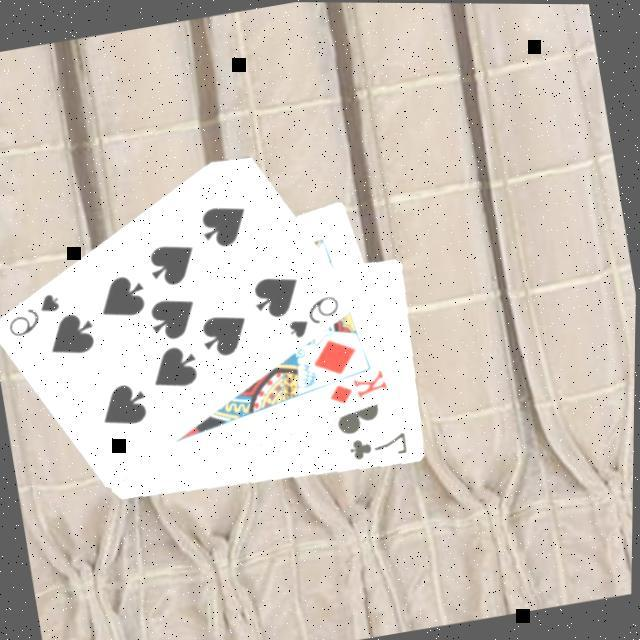7C: (346, 428, 413, 468)
9S: (0, 290, 69, 344), (280, 292, 348, 344)
KD: (322, 366, 394, 411)
